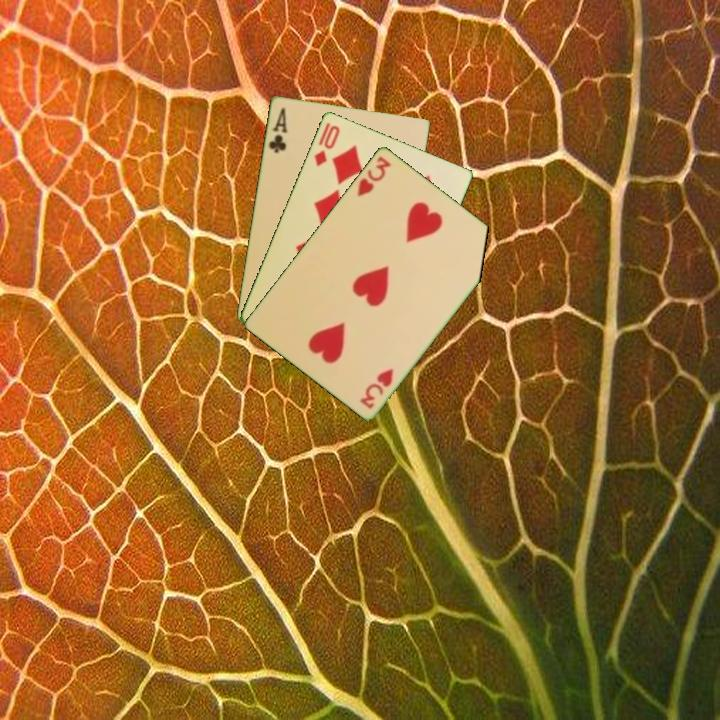10d: (310, 119, 343, 169)
3h: (354, 152, 394, 199), (356, 365, 396, 412)
Ac: (265, 103, 290, 156)
